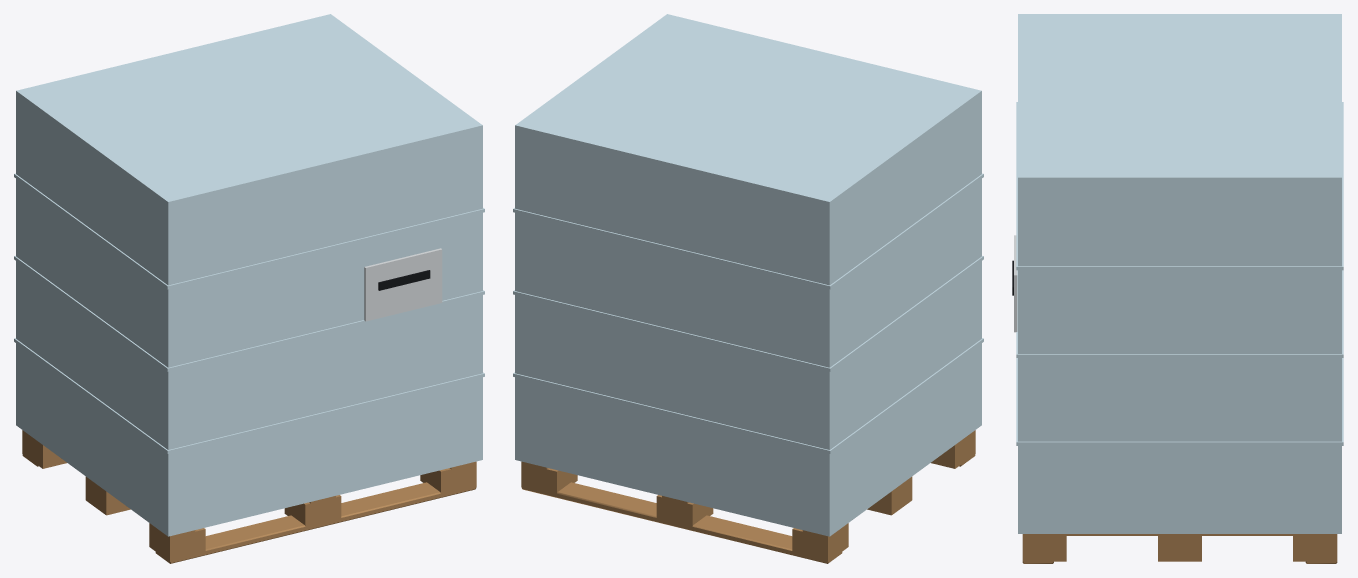
Rendered from pallet_wrapped_stack.glb.
The picture shows the model from 3 angles, left to right: view 1: azimuth 30°, elevation 25°; view 2: azimuth 150°, elevation 25°; view 3: azimuth 270°, elevation 25°; orthographic projection. The views are drawn at different scales.
Parts seen in each view (by area): view 1: pallet_wrapped_stack; view 2: pallet_wrapped_stack; view 3: pallet_wrapped_stack.
Part boxes in pixels (left/top/right/bottom): pallet_wrapped_stack: left=14, top=14, right=484, bottom=563; pallet_wrapped_stack: left=513, top=14, right=983, bottom=563; pallet_wrapped_stack: left=1012, top=14, right=1343, bottom=563.
Bounding box in the file's own units: 1.24 × 1.36 × 1.05.
